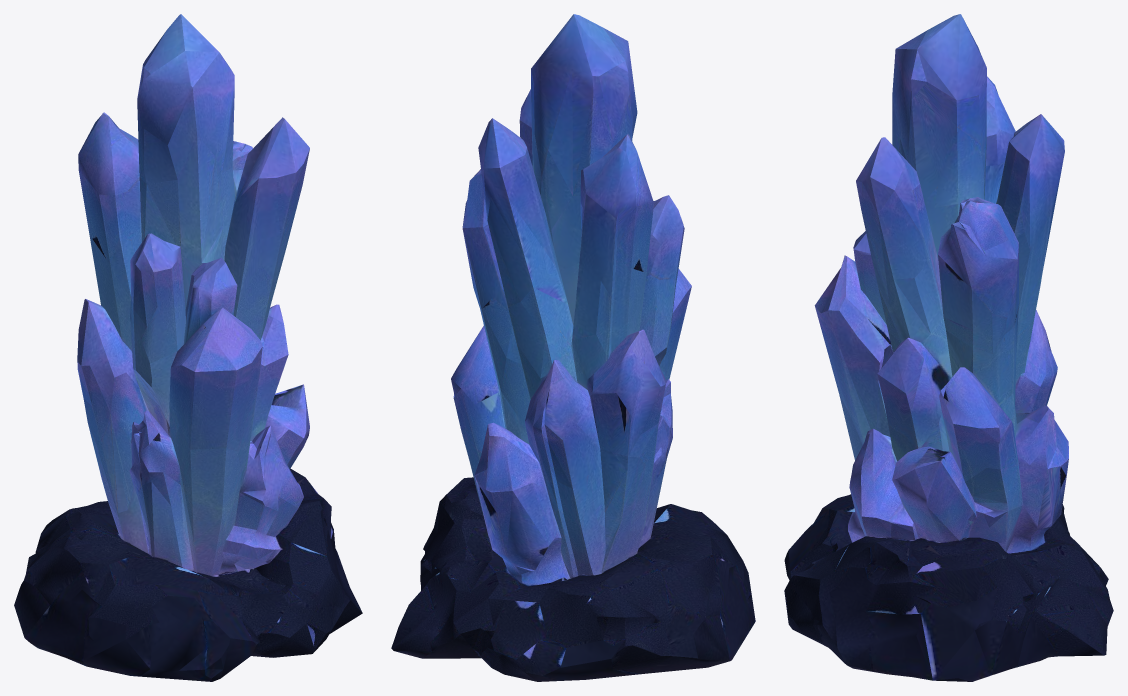
File: p_crystal.glb
The picture shows the model from 3 angles, left to right: view 1: azimuth 30°, elevation 25°; view 2: azimuth 150°, elevation 25°; view 3: azimuth 270°, elevation 25°; orthographic projection. The views are drawn at different scales.
Size of the model in its own units: 1 by 1.9 by 0.9512.
1 material, 1 textured.
